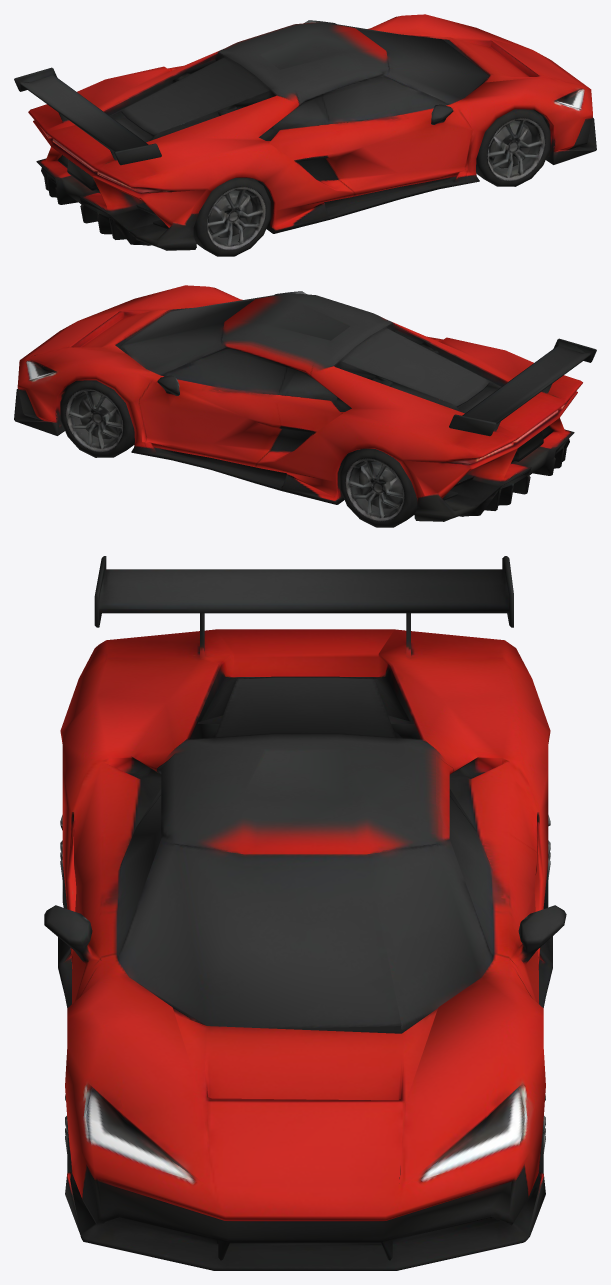
Rendered from supercar-tripo.glb.
3 renders of one model, top to bottom at view 1: azimuth 30°, elevation 25°; view 2: azimuth 150°, elevation 25°; view 3: azimuth 270°, elevation 25°, orthographic. The views are drawn at different scales.
Visible parts, largest first — view 1: tripo_node_c61d96f4-4894-42c3-8019-6bac21a4f249; view 2: tripo_node_c61d96f4-4894-42c3-8019-6bac21a4f249; view 3: tripo_node_c61d96f4-4894-42c3-8019-6bac21a4f249.
Boxes of the visible parts, <box> form: tripo_node_c61d96f4-4894-42c3-8019-6bac21a4f249: <box>14,14,596,256</box>; tripo_node_c61d96f4-4894-42c3-8019-6bac21a4f249: <box>14,285,596,527</box>; tripo_node_c61d96f4-4894-42c3-8019-6bac21a4f249: <box>44,556,566,1270</box>.
Bounding box in the file's own units: 1 × 0.2524 × 0.4462.
1 material, 1 textured.
